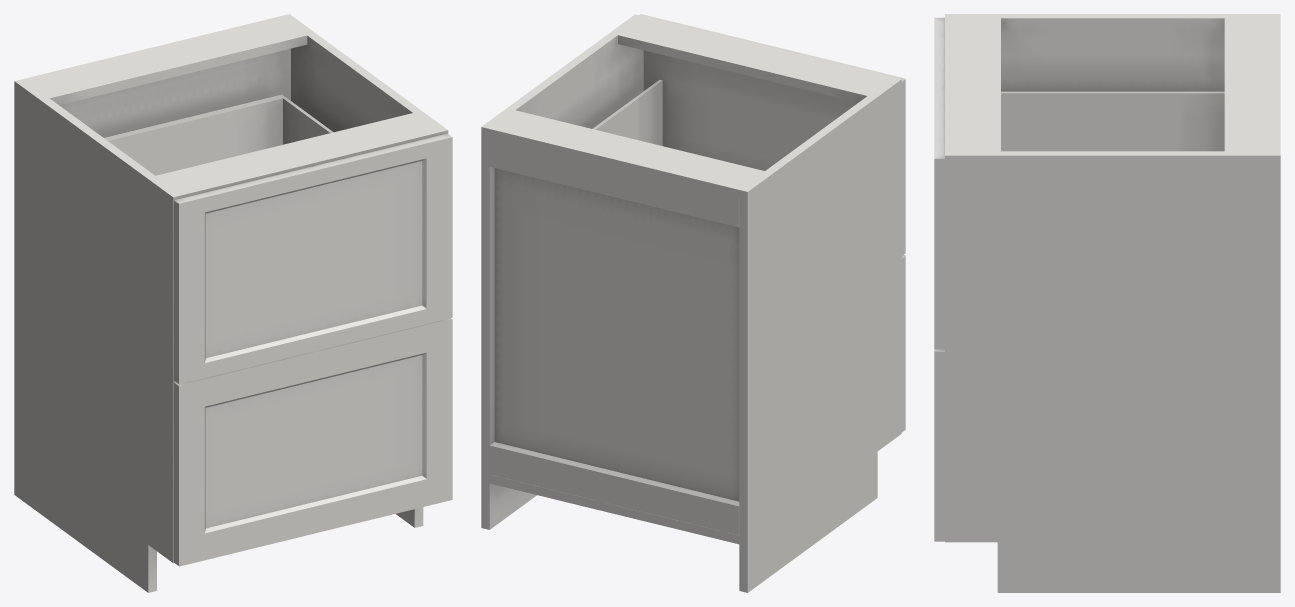
The model's file is 2-drawer-equal-base-doors-on.glb.
3 views of the same model, side by side, from view 1: azimuth 30°, elevation 25°; view 2: azimuth 150°, elevation 25°; view 3: azimuth 270°, elevation 25° (orthographic). The views are drawn at different scales.
Parts seen in each view (by area): view 1: part_15, part_0, part_8; view 2: part_0, part_15, part_8; view 3: part_0, part_8, part_15.
Part boxes in pixels (bbox=[...]): part_15: bbox=[174, 133, 452, 566]; part_0: bbox=[14, 14, 448, 592]; part_8: bbox=[104, 94, 333, 175]; part_0: bbox=[481, 14, 901, 592]; part_15: bbox=[639, 14, 905, 432]; part_8: bbox=[592, 79, 662, 145]; part_0: bbox=[945, 14, 1280, 592]; part_8: bbox=[1001, 91, 1224, 151]; part_15: bbox=[934, 17, 944, 541].
Bounding box in the file's own units: 0.6096 × 0.8763 × 0.6286.
3 materials, 2 textured.
